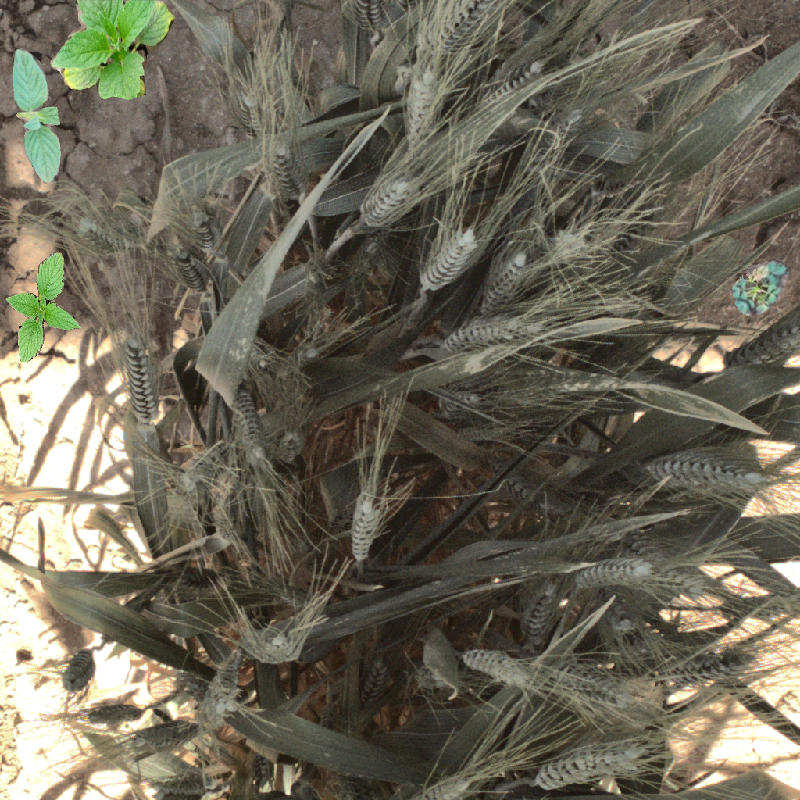spikelet: (643, 445, 769, 498), (529, 657, 643, 715), (529, 738, 650, 791), (438, 310, 548, 356), (415, 1, 500, 57), (416, 224, 478, 293), (727, 313, 799, 372), (120, 328, 164, 424), (475, 247, 531, 316), (228, 394, 273, 471), (459, 645, 535, 690), (401, 62, 441, 142), (516, 578, 562, 646), (357, 174, 413, 227), (71, 211, 141, 253), (655, 649, 732, 687), (263, 135, 305, 202), (573, 555, 653, 589), (238, 622, 299, 665), (347, 491, 381, 563), (544, 224, 592, 267), (388, 776, 473, 799)
weed: (50, 1, 176, 100), (1, 249, 86, 364), (4, 43, 70, 187), (731, 261, 788, 316)
